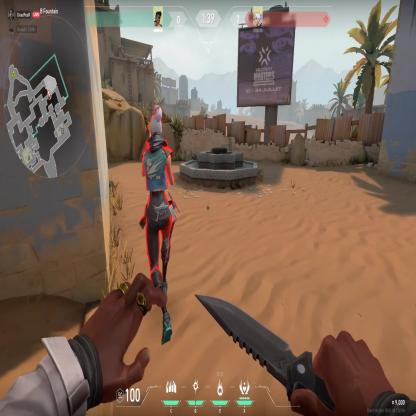enemy: (142, 104, 179, 350)
